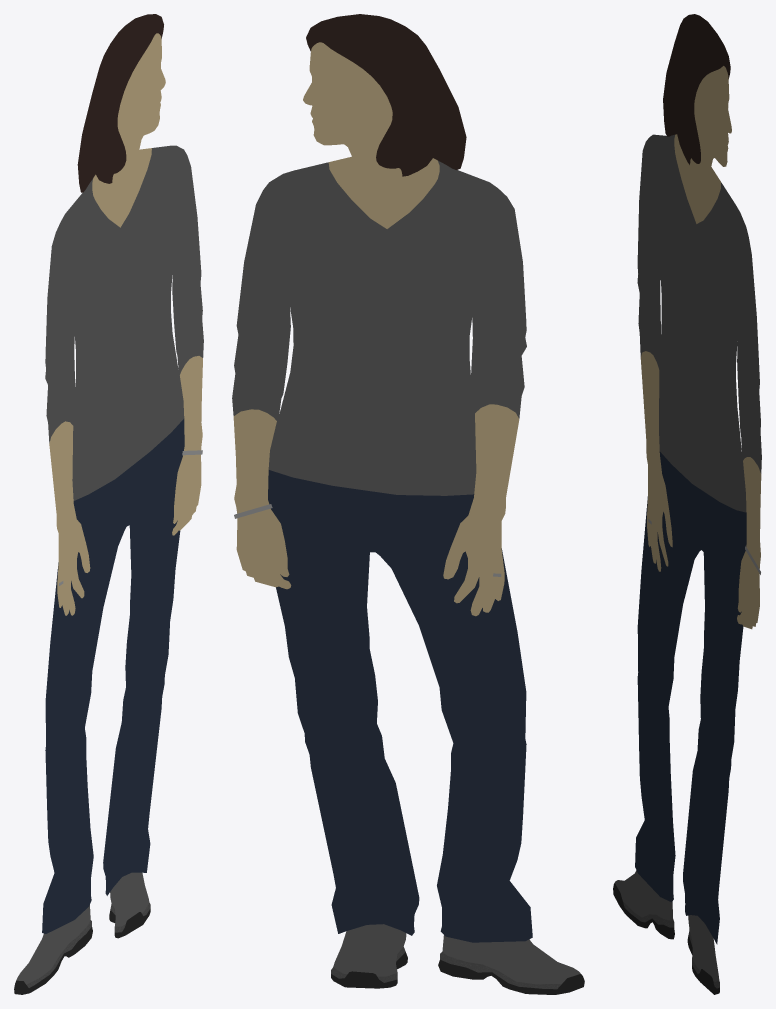
File: SketchupCircle.dae
The picture shows the model from 3 angles, left to right: view 1: azimuth 30°, elevation 25°; view 2: azimuth 150°, elevation 25°; view 3: azimuth 270°, elevation 25°; orthographic projection. The views are drawn at different scales.
Parts seen in each view (by area): view 1: Susan (×10); view 2: Susan (×11); view 3: Susan (×10).
Boxes of the visible parts, box(x1,y1,x2,y2) form: Susan (×10): box(14, 14, 203, 994); Susan (×11): box(232, 14, 584, 994); Susan (×10): box(613, 14, 761, 981).
Size of what is drawn, in the model's own units: 19.88 by 9.29 by 66.6.
